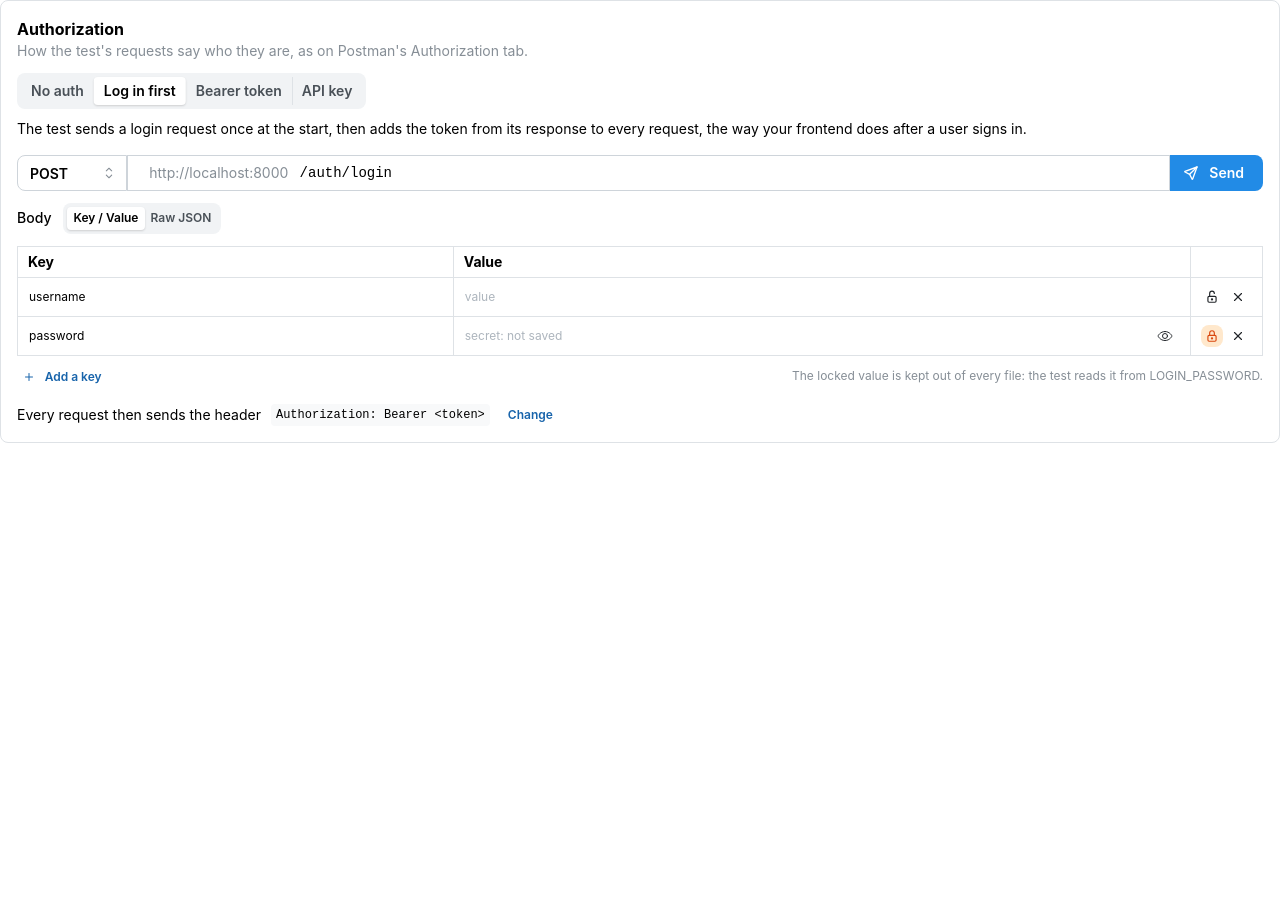
Scenario: the Authorization panel › says plainly when the response body itself is the token
Click the button "Send".
click(1217, 173)  # box x1=1170 y1=155 x2=1263 y2=191
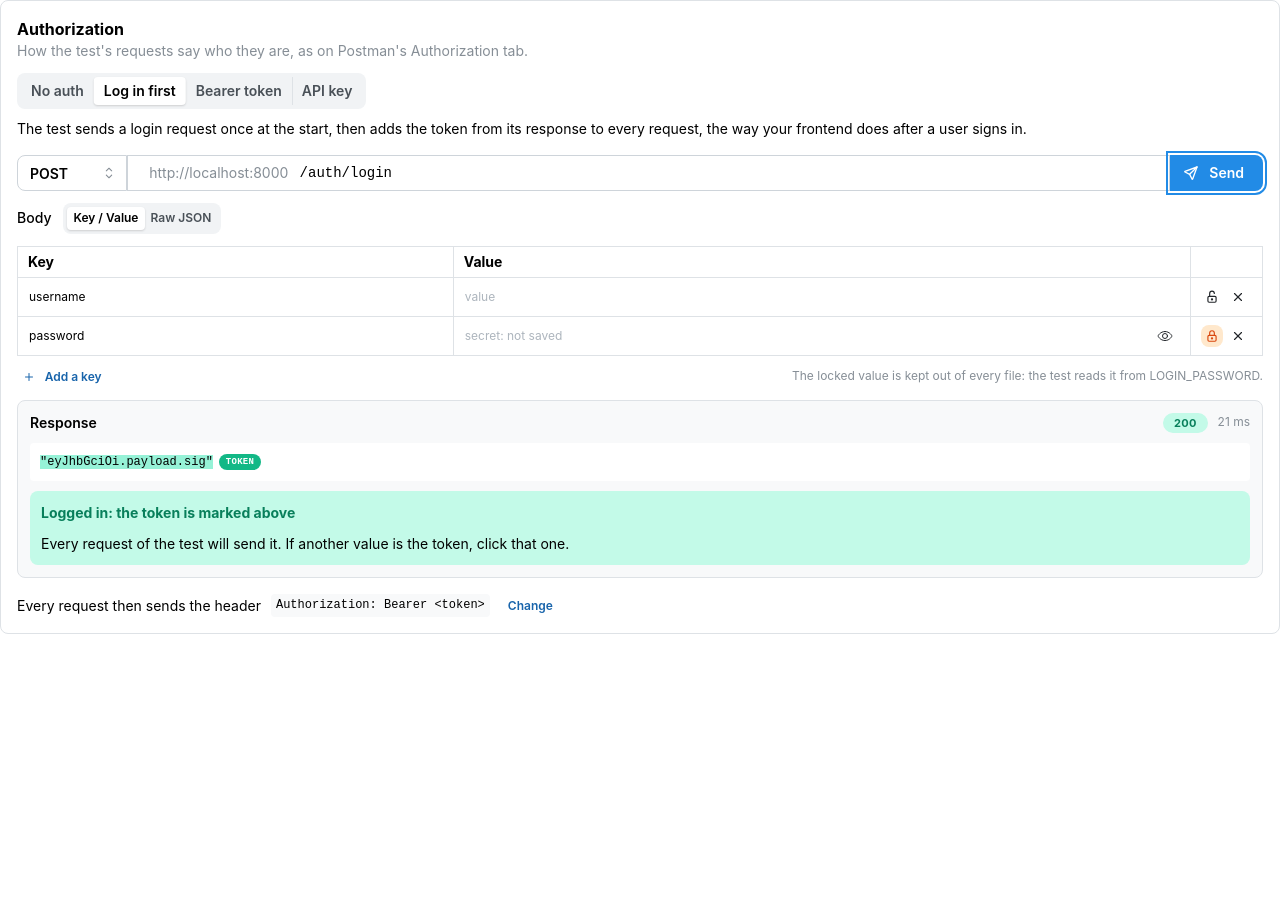
Expected: the text "Authorization: Bearer <token>" is shown, x1=271 y1=594 x2=490 y2=617
Expected: the element named "token at the response body" is shown, x1=40 y1=455 x2=213 y2=469
